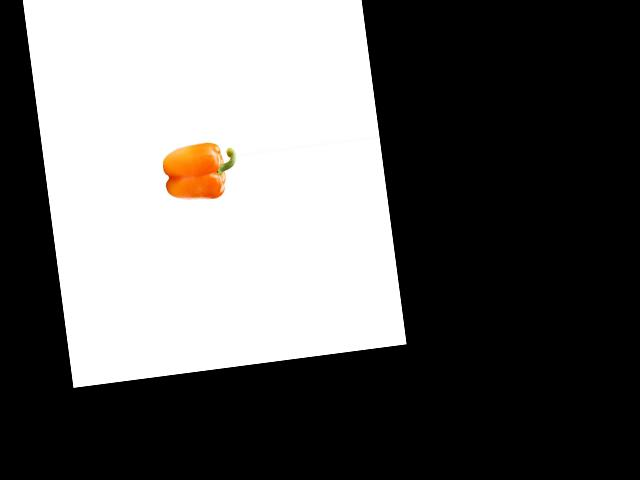bell_pepper: (159, 132, 241, 210)
